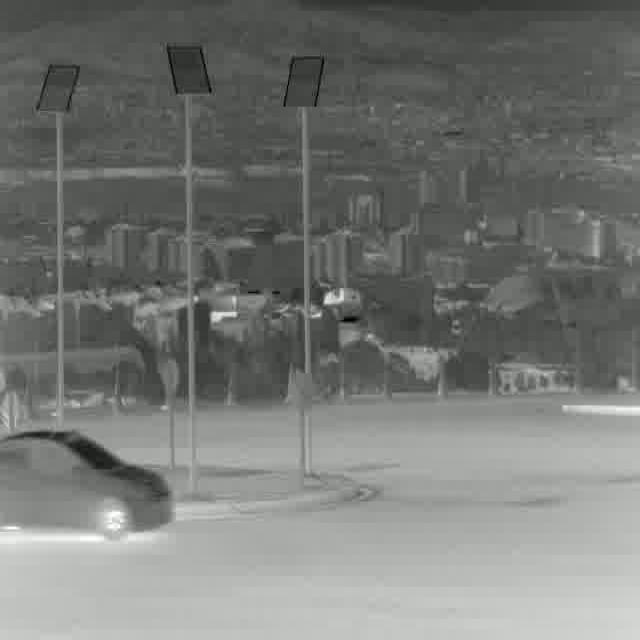Car: (0, 429, 175, 538)
